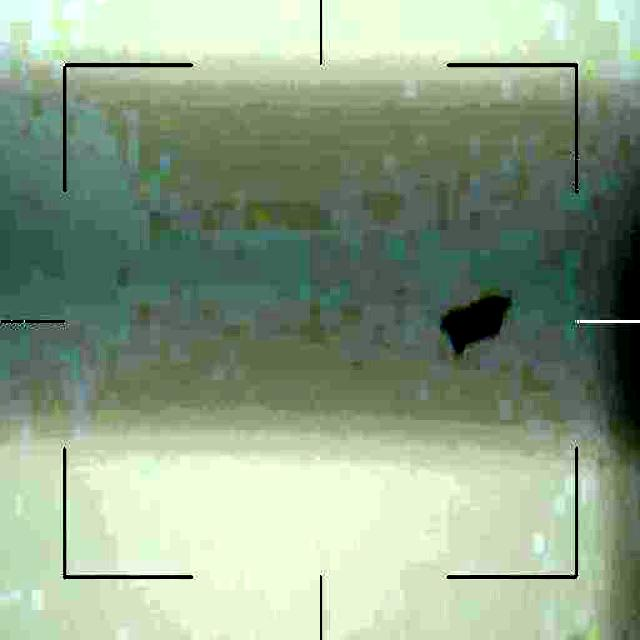bird: (445, 294, 502, 351)
